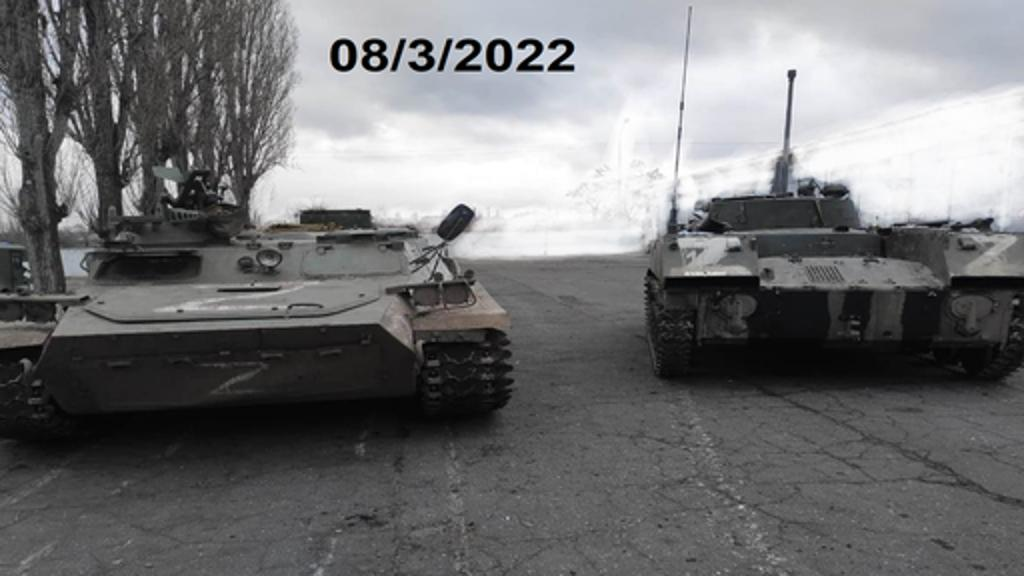APC-IFV: (0, 194, 518, 446), (634, 66, 1020, 386)
